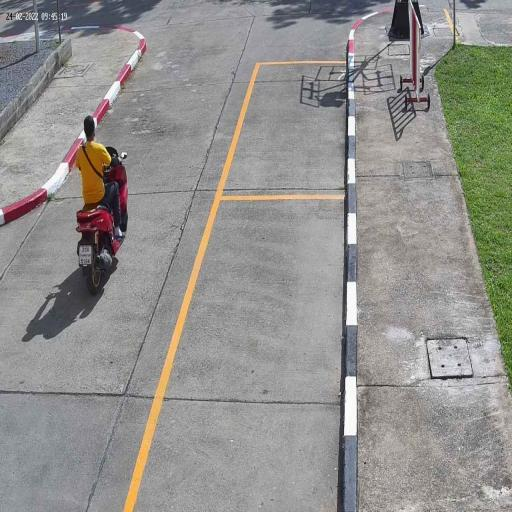motorcycle: (76, 162, 129, 292)
